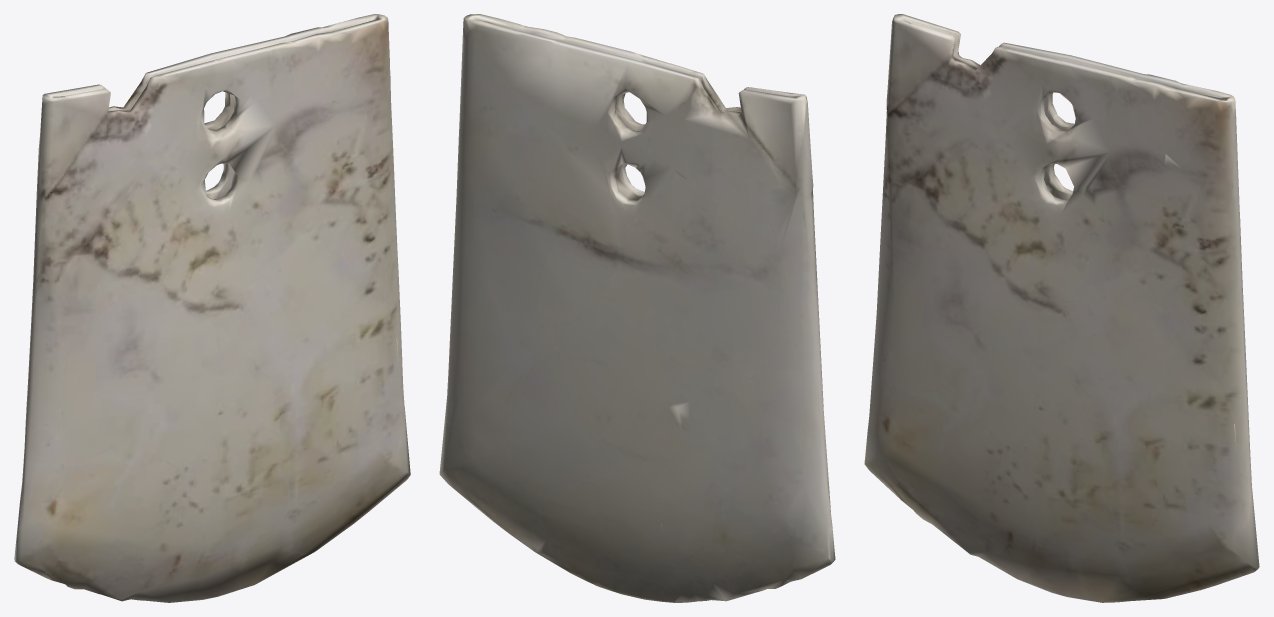
The model's file is double-hole-yue-overview.glb.
3 renders of one model, left to right at view 1: azimuth 30°, elevation 25°; view 2: azimuth 150°, elevation 25°; view 3: azimuth 330°, elevation 25°, orthographic.
Parts seen in each view (by area): view 1: node_0; view 2: node_0; view 3: node_0.
Boxes of the visible parts, box(x1,y1,x2,y2) form: node_0: box(14, 14, 410, 602); node_0: box(439, 14, 835, 602); node_0: box(864, 14, 1259, 602).
Bounding box in the file's own units: 0.763 × 1 × 0.0997.
1 material, 1 textured.
